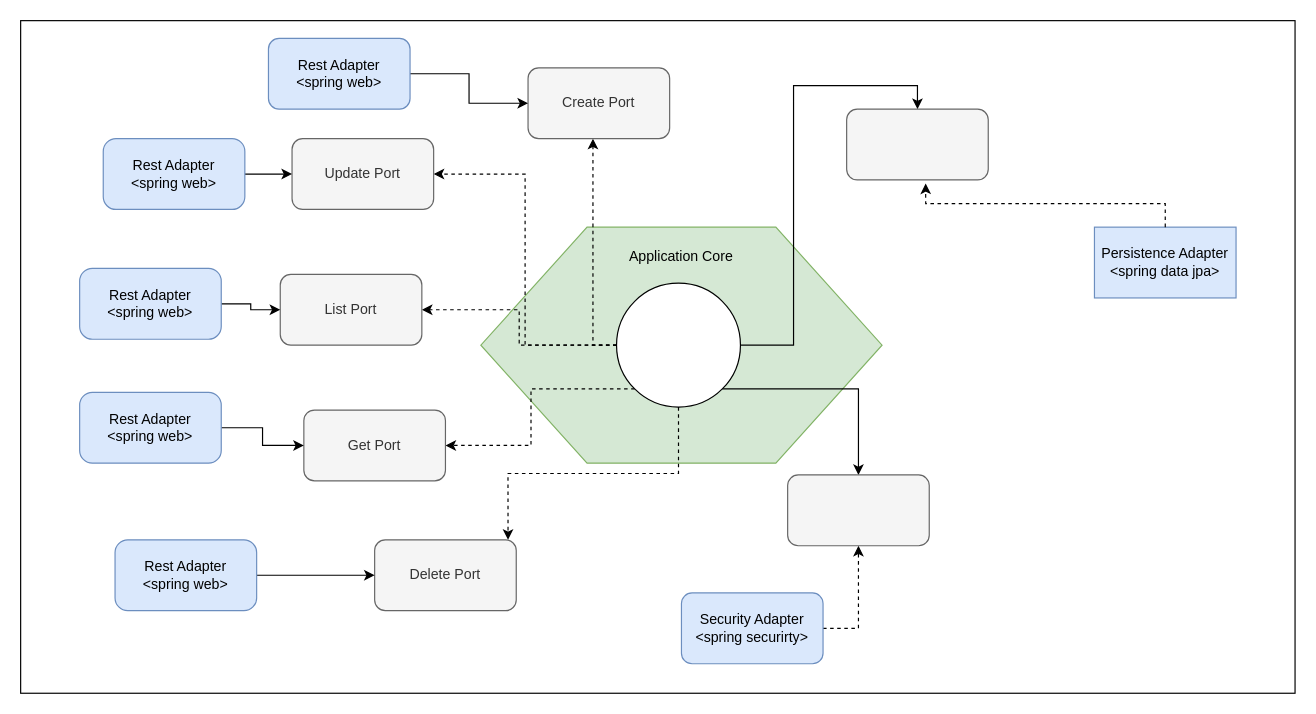
This 1316x714 diagram has some shape labels left out. The shapes that lost their labels are listed below. From the top down, each one's centre as x and y in pixels, then its label:
At point (916, 144): "Persistence port".
At point (677, 344): "Domain Service".
At point (857, 510): "Securiry Port".
